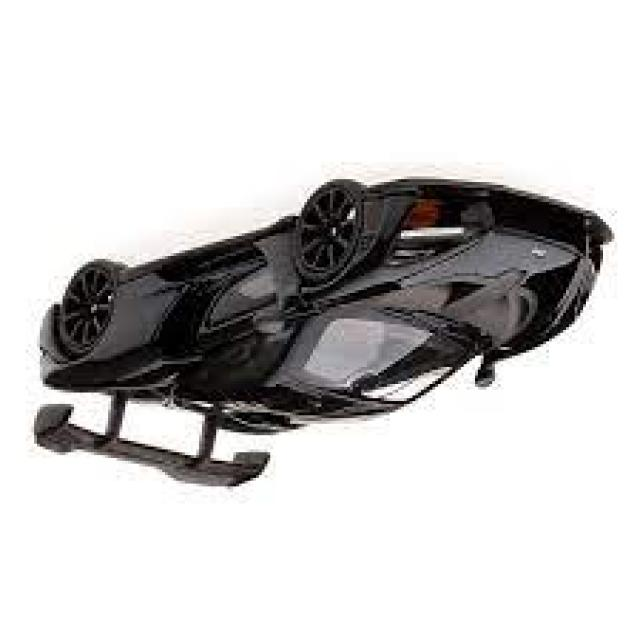Car: (34, 179, 612, 492)
